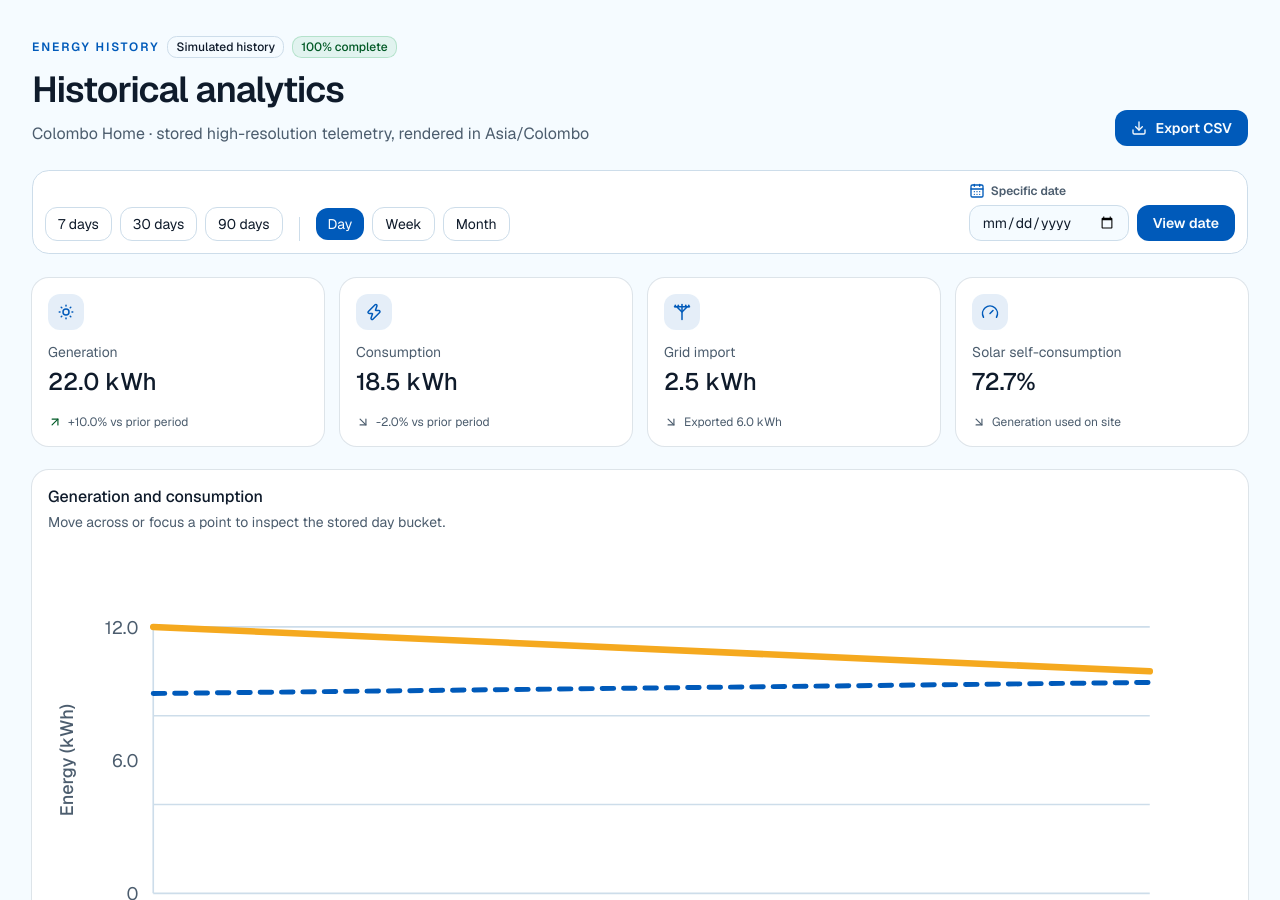
Test: HistoricalAnalytics › reveals the selected past bucket when a user hovers the chart
Hover over the slider named "generation and consumption history" at (651, 760), box [153,627,1150,893]
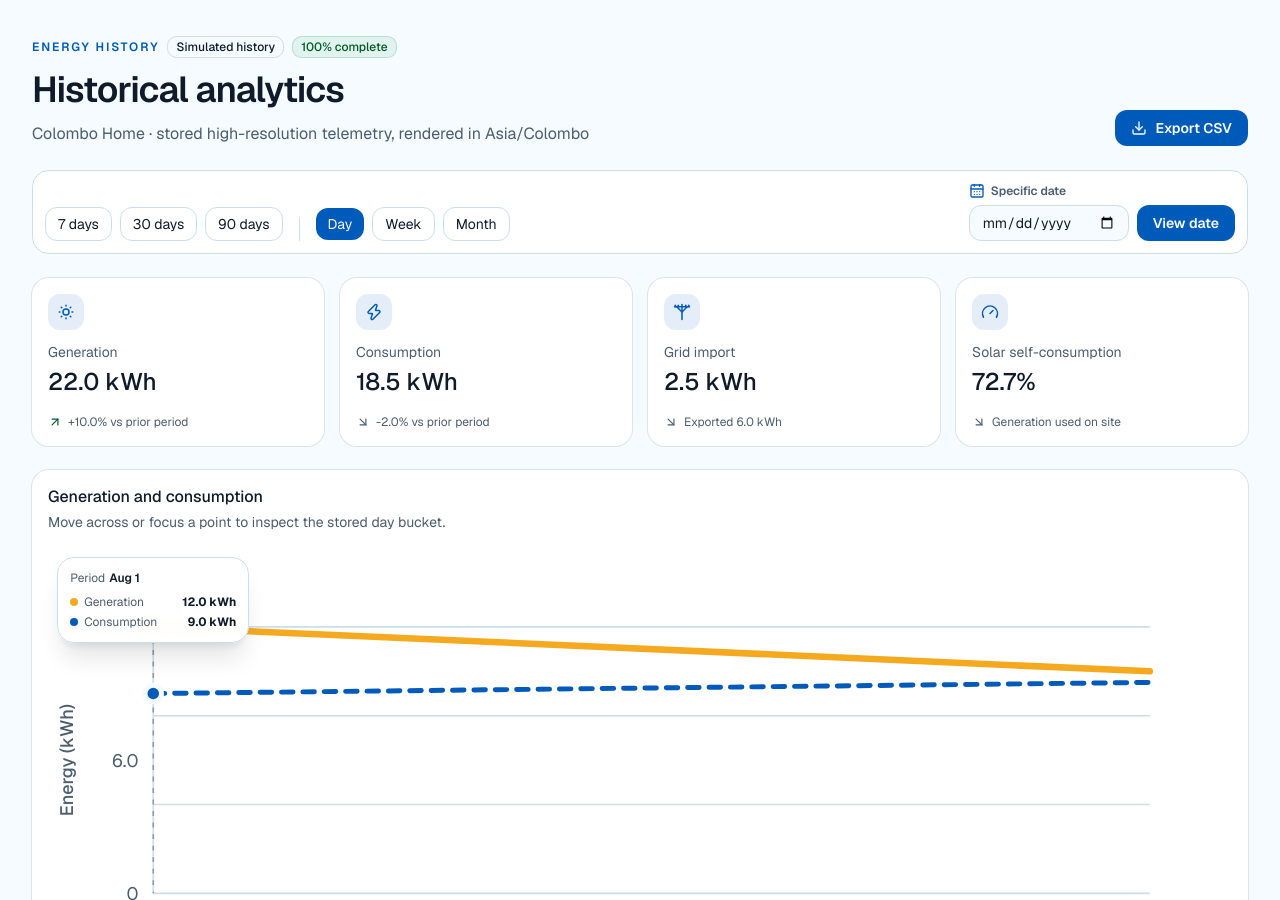
Check: the message shows "Aug 1", box [109,570,140,586]
Check: the message shows "Period", box [70,570,105,586]
